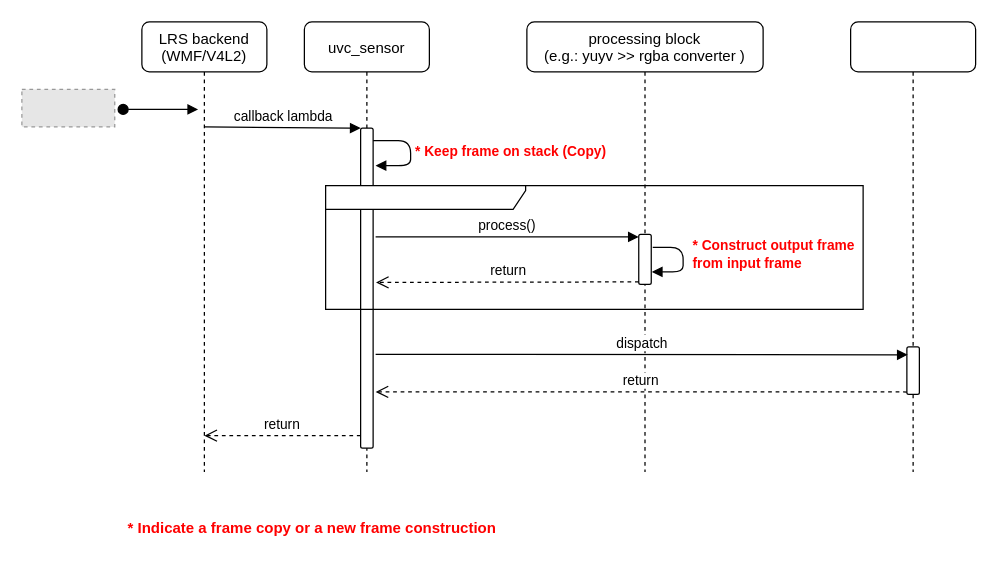
This 998x569 diagram has some shape labels left out. Grey dashed boxes stand in for pictures. Here are the shapes that lost their labels. From the top down, the box of each, then its label:
(324, 184, 863, 309): Multiply by # of PB / filters
(849, 21, 976, 472): User
